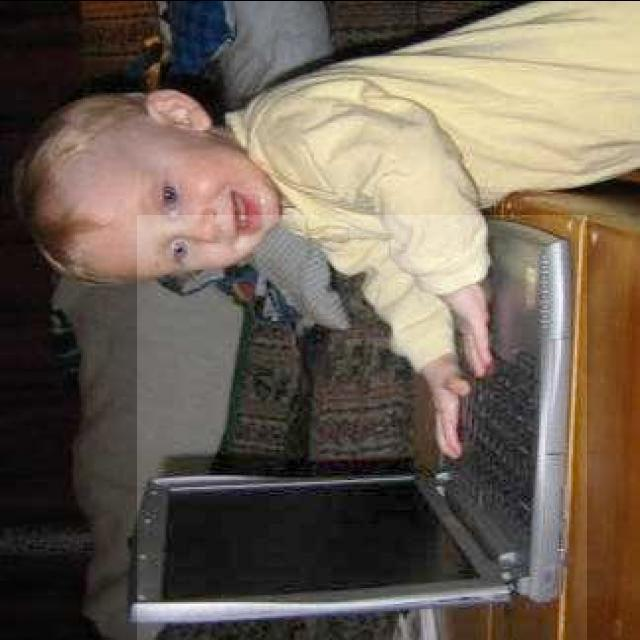-keyboard-: (137, 215, 587, 640)
